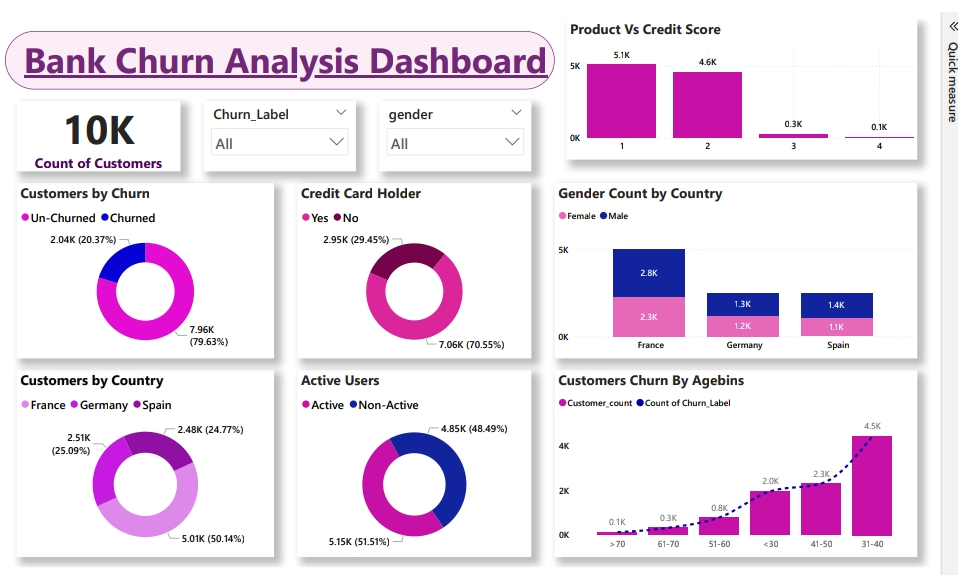

The page's visual inventory and layout, read from the dashboard file:
{"tool":"powerbi","page":{"name":"Page 1","canvas":[1280,750],"ordinal":0},"visuals":[{"type":"textbox","box":[10,0,280,280],"z":0},{"type":"textbox","box":[48,48,272,272],"z":1000},{"type":"textbox","box":[0,16,768,80],"z":2000},{"type":"slicer","fields":{"Values":["Bank Data.Churn_Label"]},"box":[272,112,208,96],"z":3000},{"type":"donutChart","title":"Customers by Country ","fields":{"Y":["Bank Data.Customer_count"],"Category":["Bank Data.country"]},"box":[16,480,352,256],"z":4000},{"type":"donutChart","title":"Customers by Churn","fields":{"Category":["Bank Data.Churn_Label"],"Y":["Bank Data.Customer_count"]},"box":[16,224,352,240],"z":5000},{"type":"donutChart","title":"Credit Card Holder","fields":{"Y":["CountNonNull(Bank Data.credit_card_holder)"],"Category":["Bank Data.credit_card_holder"]},"box":[400,224,320,240],"z":6000},{"type":"donutChart","title":"Active Users","fields":{"Y":["CountNonNull(Bank Data.current_user)"],"Category":["Bank Data.current_user"]},"box":[400,480,320,256],"z":7000},{"type":"card","fields":{"Values":["Bank Data.Customer_count"]},"box":[16,112,224,96],"z":8000},{"type":"lineStackedColumnComboChart","title":"Customers Churn By Agebins","fields":{"Category":["Bank Data.age_bins"],"Y":["Bank Data.Customer_count"],"Y2":["CountNonNull(Bank Data.Churn_Label)"]},"box":[752,480,496,256],"z":9000},{"type":"columnChart","title":"Gender Count by Country","fields":{"Series":["Bank Data.gender"],"Category":["Bank Data.country"],"Y":["Bank Data.Count of Churn_Label total for Churn_Label"]},"box":[752,224,496,240],"z":10000},{"type":"columnChart","title":"Product Vs Credit Score","fields":{"Category":["Bank Data.products_number"],"Y":["CountNonNull(Bank Data.credit_score)"]},"box":[768,0,480,192],"z":11000},{"type":"slicer","fields":{"Values":["Bank Data.gender"]},"box":[512,112,208,96],"z":12000},{"type":"shape","box":[0,16,752,80],"z":13000}]}

Visuals, with their boxes on the page's 1280x750 design canvas (x1, y1, x2, y2). These are canvas units, not pixel positions in the 958x585 screenshot, which may show the page scaled, cropped or inside an application window:
textbox: x1=10 y1=0 x2=290 y2=280
textbox: x1=48 y1=48 x2=320 y2=320
textbox: x1=0 y1=16 x2=768 y2=96
slicer - Bank Data.Churn_Label: x1=272 y1=112 x2=480 y2=208
"Customers by Country " donutChart: x1=16 y1=480 x2=368 y2=736
"Customers by Churn" donutChart: x1=16 y1=224 x2=368 y2=464
"Credit Card Holder" donutChart: x1=400 y1=224 x2=720 y2=464
"Active Users" donutChart: x1=400 y1=480 x2=720 y2=736
card - Bank Data.Customer_count: x1=16 y1=112 x2=240 y2=208
"Customers Churn By Agebins" lineStackedColumnComboChart: x1=752 y1=480 x2=1248 y2=736
"Gender Count by Country" columnChart: x1=752 y1=224 x2=1248 y2=464
"Product Vs Credit Score" columnChart: x1=768 y1=0 x2=1248 y2=192
slicer - Bank Data.gender: x1=512 y1=112 x2=720 y2=208
shape: x1=0 y1=16 x2=752 y2=96
